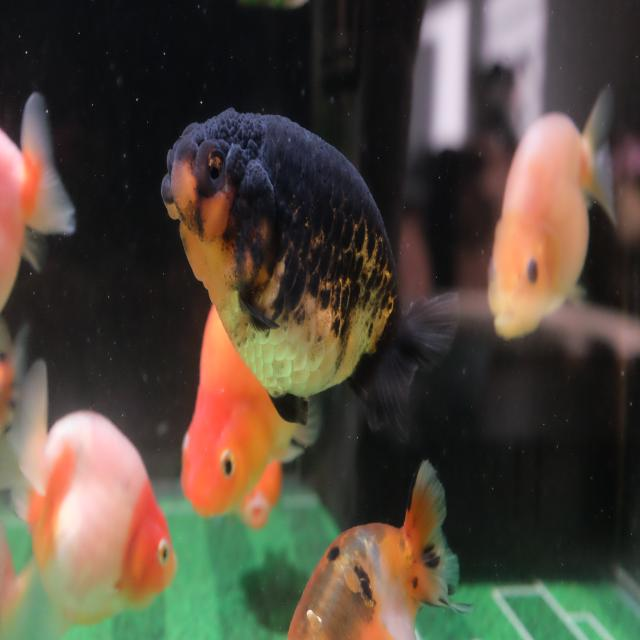Tilapia: (160, 104, 460, 447), (7, 357, 177, 639), (485, 78, 618, 345), (286, 455, 476, 640), (178, 299, 322, 520), (0, 84, 76, 322)
